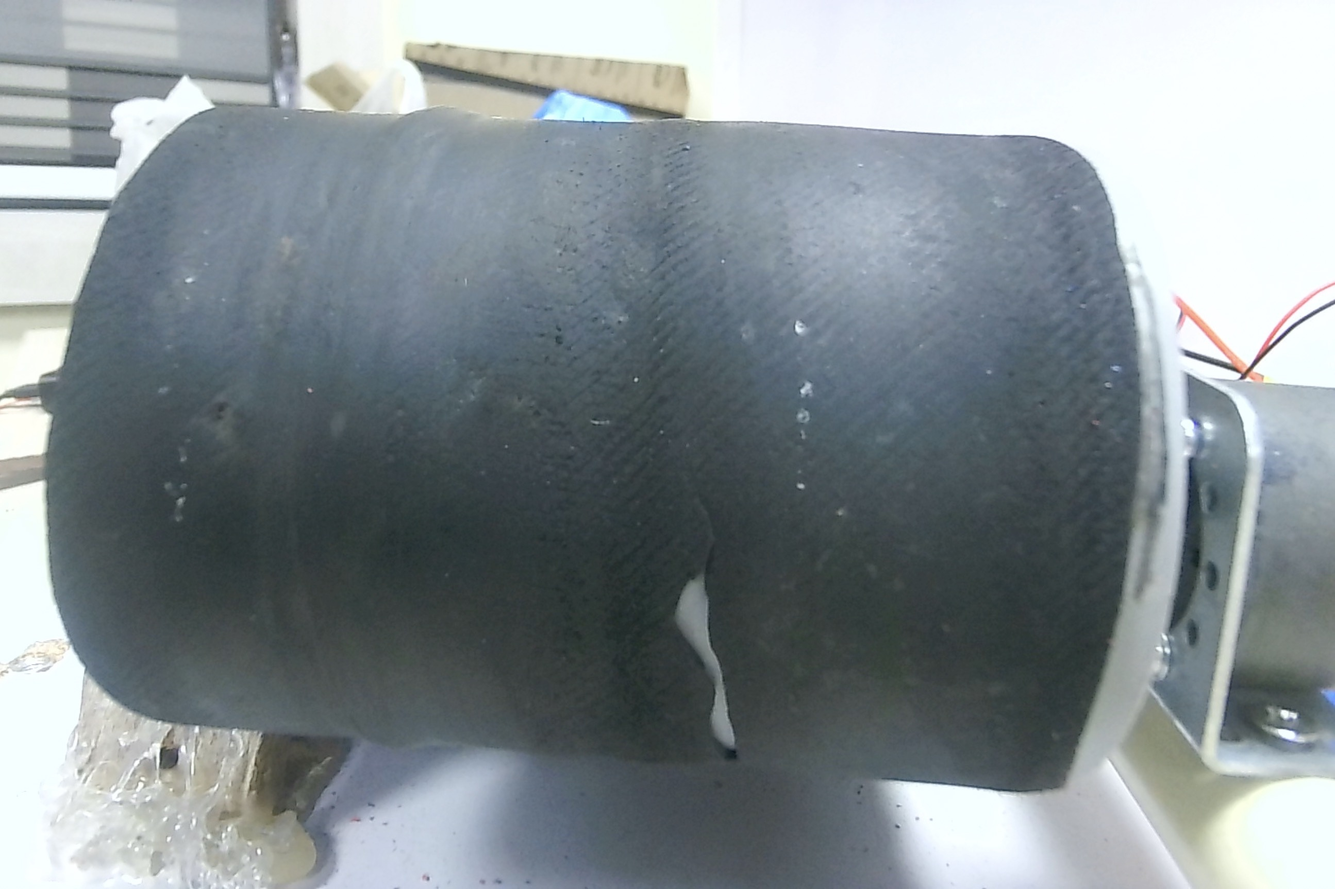tear: (654, 533, 758, 779)
